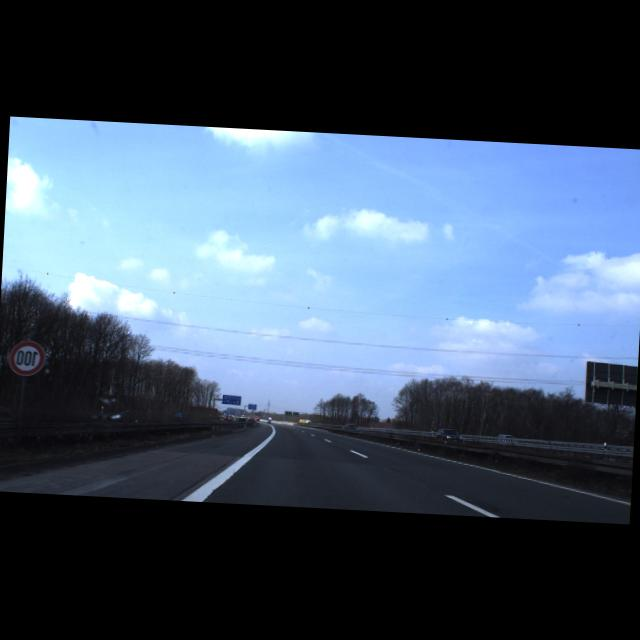prohibitory: (8, 338, 46, 376)
